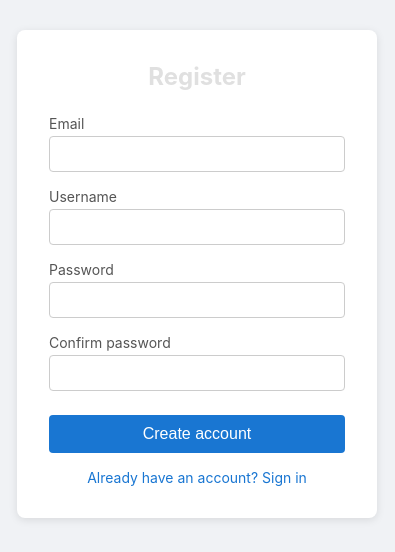
it: RegisterPage › shows error when form is empty
Click the button "Create account" at (197, 434), box [49,415,345,453]
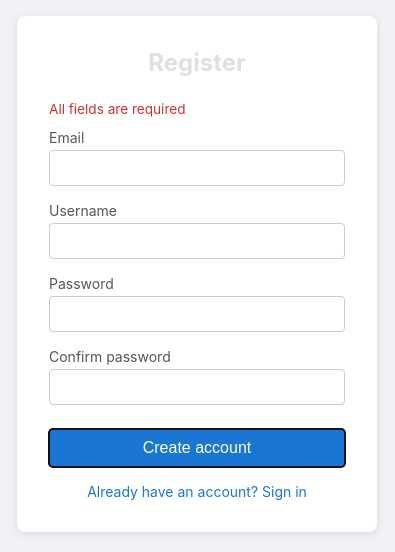
expect the text "All fields are required" is shown: met, box [49,101,186,117]
